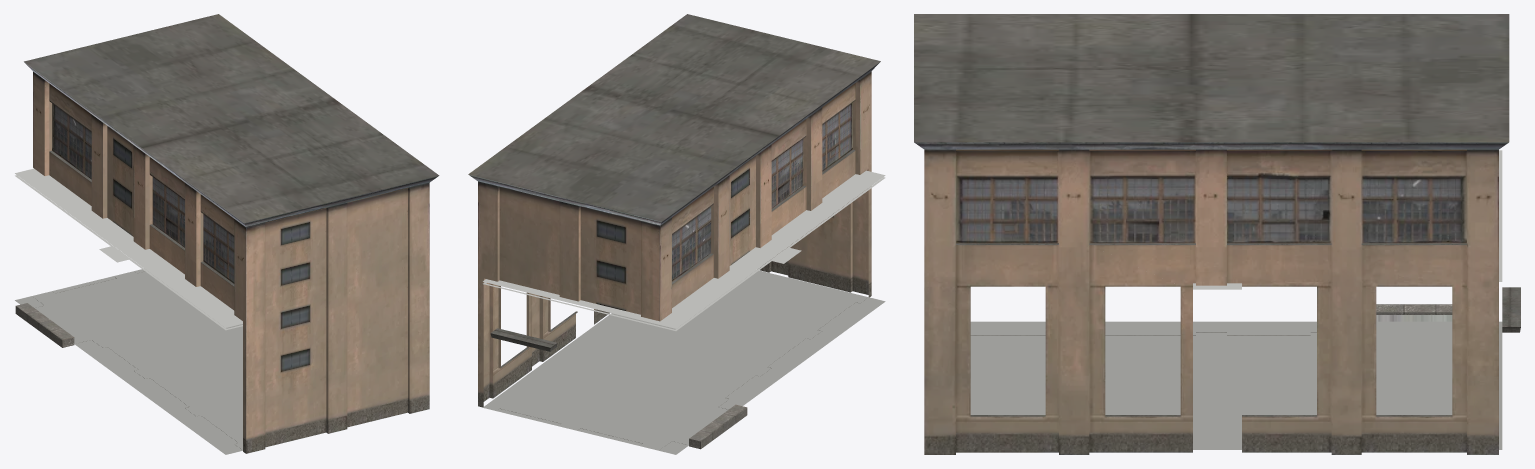
The model's file is factory-hall.access-v9.lod1.glb.
The picture shows the model from 3 angles, left to right: view 1: azimuth 30°, elevation 25°; view 2: azimuth 150°, elevation 25°; view 3: azimuth 270°, elevation 25°; orthographic projection. The views are drawn at different scales.
Visible parts, largest first — view 1: factory_1_factory_1_0, Walkable floors and stairs (×2); view 2: factory_1_factory_1_0, Walkable floors and stairs (×2); view 3: factory_1_factory_1_0, Walkable floors and stairs (×2).
Boxes of the visible parts, x1,y1,x2,y2 form: factory_1_factory_1_0: [15, 14, 439, 453]; Walkable floors and stairs (×2): [15, 168, 242, 454]; factory_1_factory_1_0: [468, 14, 880, 449]; Walkable floors and stairs (×2): [483, 170, 885, 454]; factory_1_factory_1_0: [914, 14, 1520, 454]; Walkable floors and stairs (×2): [970, 150, 1502, 449].
Bounding box in the file's own units: 14.6 × 14.96 × 26.
Materials: 3 (1 with a texture image).
